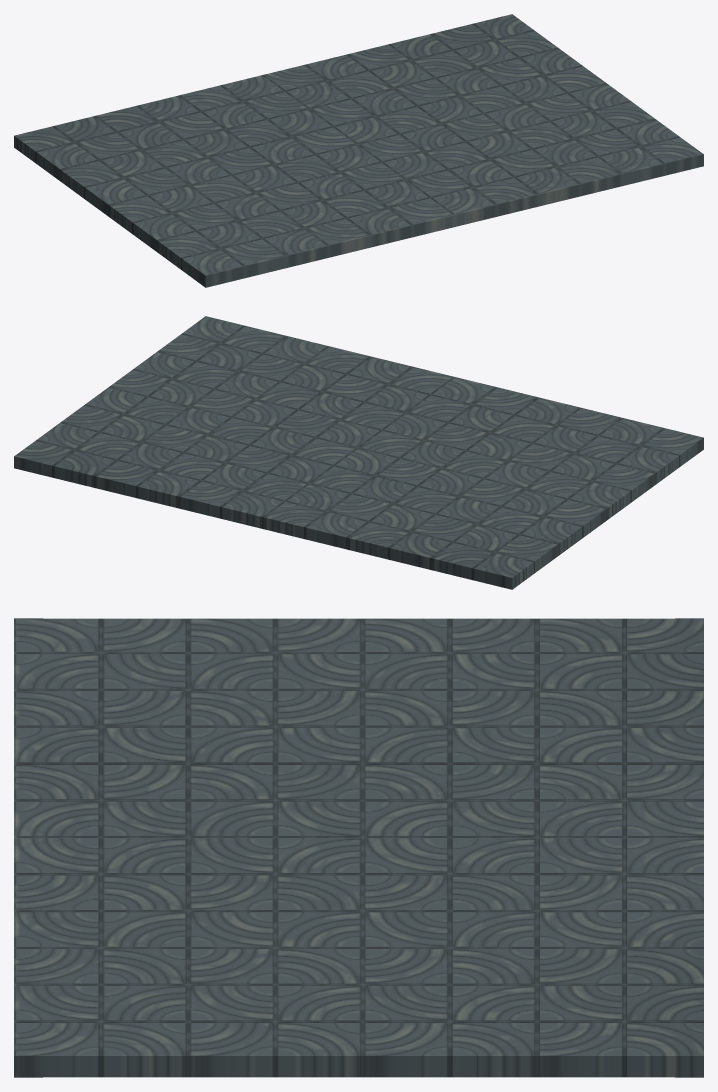
The model's file is ProjectRG_Environment_RuinsAqueduct_FullPanel.fbx.
3 renders of one model, top to bottom at view 1: azimuth 30°, elevation 25°; view 2: azimuth 150°, elevation 25°; view 3: azimuth 270°, elevation 25°, orthographic. The views are drawn at different scales.
Visible parts, largest first — view 1: ProjectRG_Environment_RuinsAqueduct_FullPanel; view 2: ProjectRG_Environment_RuinsAqueduct_FullPanel; view 3: ProjectRG_Environment_RuinsAqueduct_FullPanel.
Boxes of the visible parts, x1=… form: ProjectRG_Environment_RuinsAqueduct_FullPanel: x1=14, y1=14, x2=703, y2=287; ProjectRG_Environment_RuinsAqueduct_FullPanel: x1=14, y1=316, x2=703, y2=589; ProjectRG_Environment_RuinsAqueduct_FullPanel: x1=14, y1=618, x2=703, y2=1077.
Size of the model in its own units: 3002 by 68.4 by 2000.
